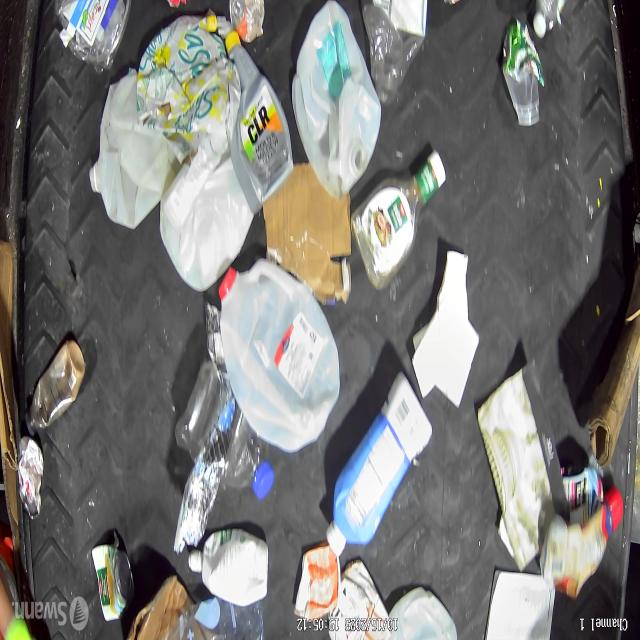can: (92, 536, 136, 624)
milk_jug: (216, 256, 340, 454), (290, 0, 382, 203), (158, 138, 260, 294), (87, 69, 170, 232), (389, 584, 460, 640), (18, 435, 46, 523)
non_white_jug: (325, 369, 433, 558), (219, 31, 295, 216)
plastic_bottle: (175, 361, 274, 504), (358, 0, 429, 107), (531, 0, 566, 43)
